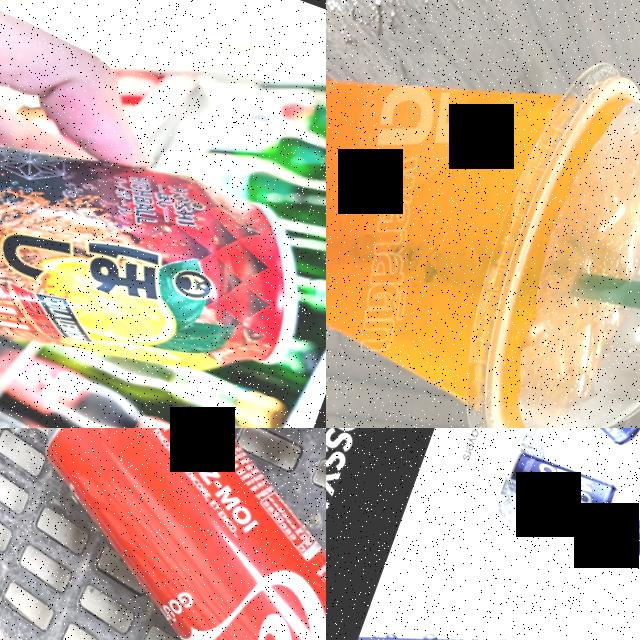can: (0, 36, 326, 428), (0, 428, 326, 640), (326, 556, 640, 640), (502, 448, 620, 528)
cup: (326, 0, 640, 428)
